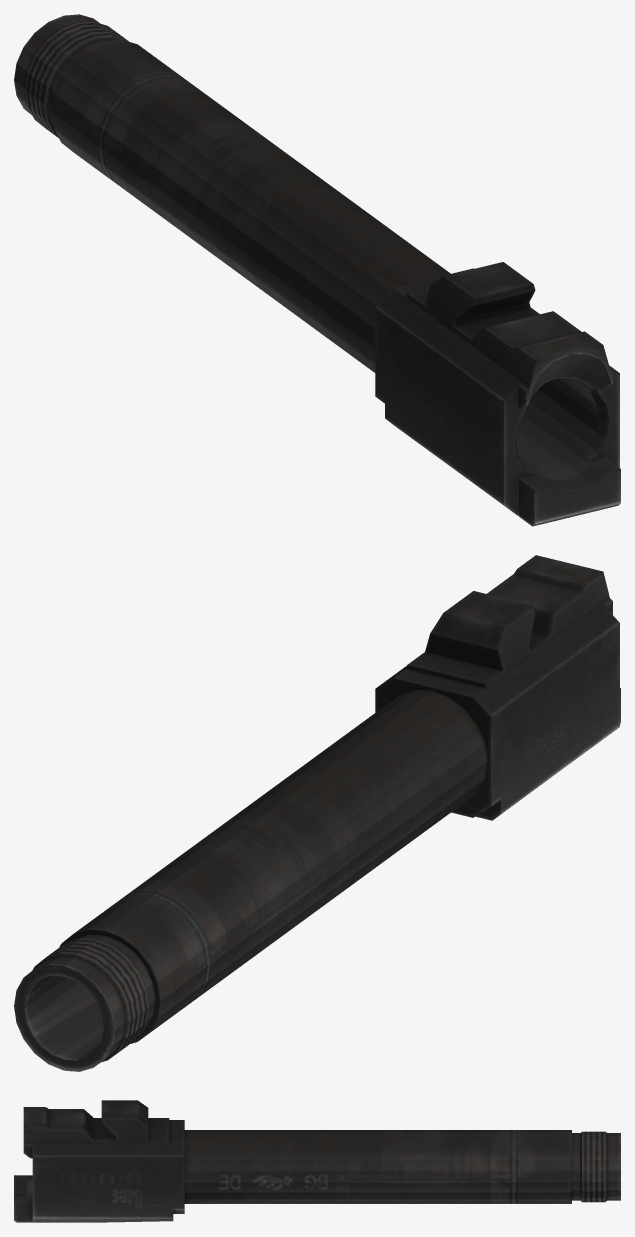
The picture shows the model from 3 angles, top to bottom: view 1: azimuth 30°, elevation 25°; view 2: azimuth 150°, elevation 25°; view 3: azimuth 270°, elevation 25°; orthographic projection. The views are drawn at different scales.
Parts seen in each view (by area): view 1: TW_6194efe07c6c7b169525f11b_PZ_Import; view 2: TW_6194efe07c6c7b169525f11b_PZ_Import; view 3: TW_6194efe07c6c7b169525f11b_PZ_Import.
Boxes of the visible parts, x1,y1,x2,y2 form: TW_6194efe07c6c7b169525f11b_PZ_Import: (14, 14, 620, 526); TW_6194efe07c6c7b169525f11b_PZ_Import: (14, 555, 620, 1071); TW_6194efe07c6c7b169525f11b_PZ_Import: (14, 1100, 620, 1222).
Size of the model in its own units: 0.00973 by 0.0746 by 0.0138.
Materials: 1 (1 with a texture image).
